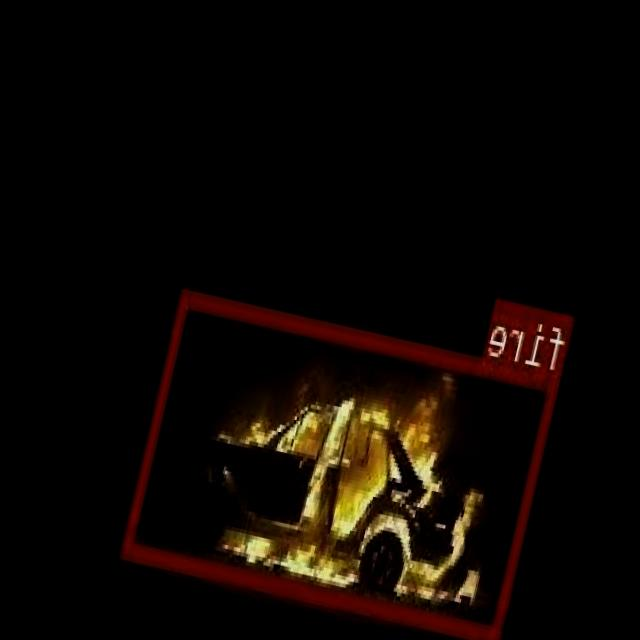fire: (122, 286, 562, 640)
